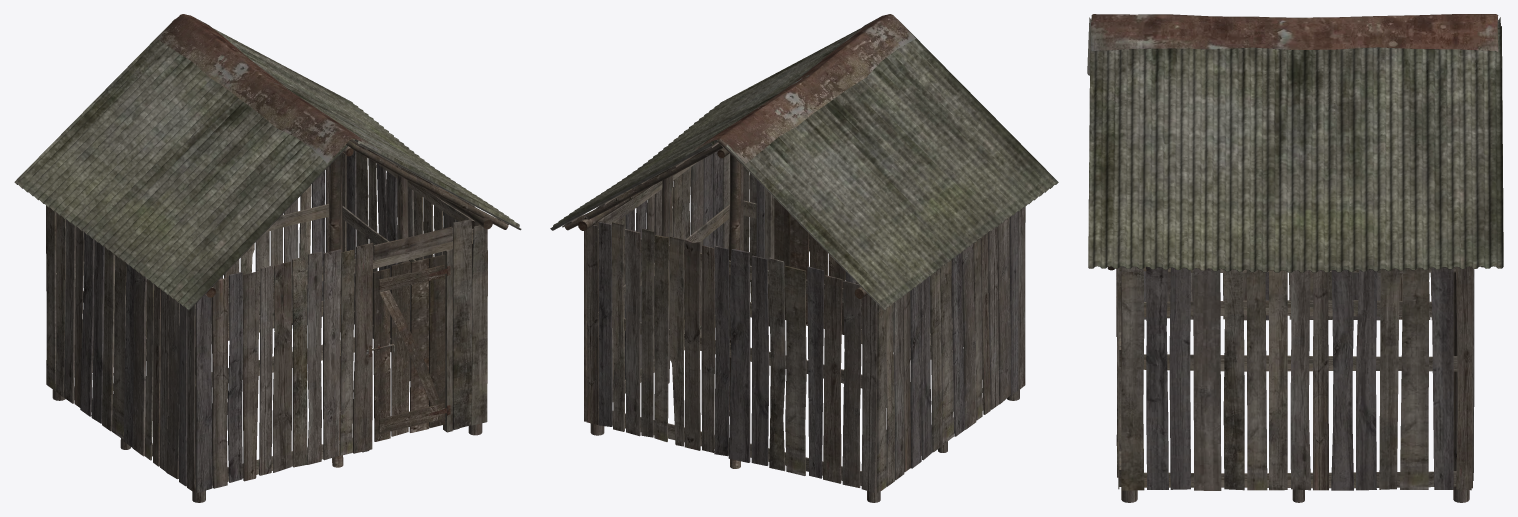
Rendered from shed_old.glb.
3 views of the same model, side by side, from view 1: azimuth 30°, elevation 25°; view 2: azimuth 150°, elevation 25°; view 3: azimuth 270°, elevation 25° (orthographic). The views are drawn at different scales.
Parts seen in each view (by area): view 1: Base, Roof, Door; view 2: Base, Roof, Door; view 3: Roof, Base.
Boxes of the visible parts, left/top/right/bottom form: Base: left=46, top=139, right=508, bottom=502; Roof: left=14, top=14, right=521, bottom=310; Door: left=373, top=254, right=445, bottom=441; Base: left=562, top=139, right=1025, bottom=502; Roof: left=550, top=14, right=1058, bottom=310; Door: left=774, top=198, right=845, bottom=334; Roof: left=1087, top=14, right=1503, bottom=272; Base: left=1107, top=266, right=1483, bottom=502.
Bounding box in the file's own units: 339 × 328 × 306.
Materials: 2 (2 with a texture image).
